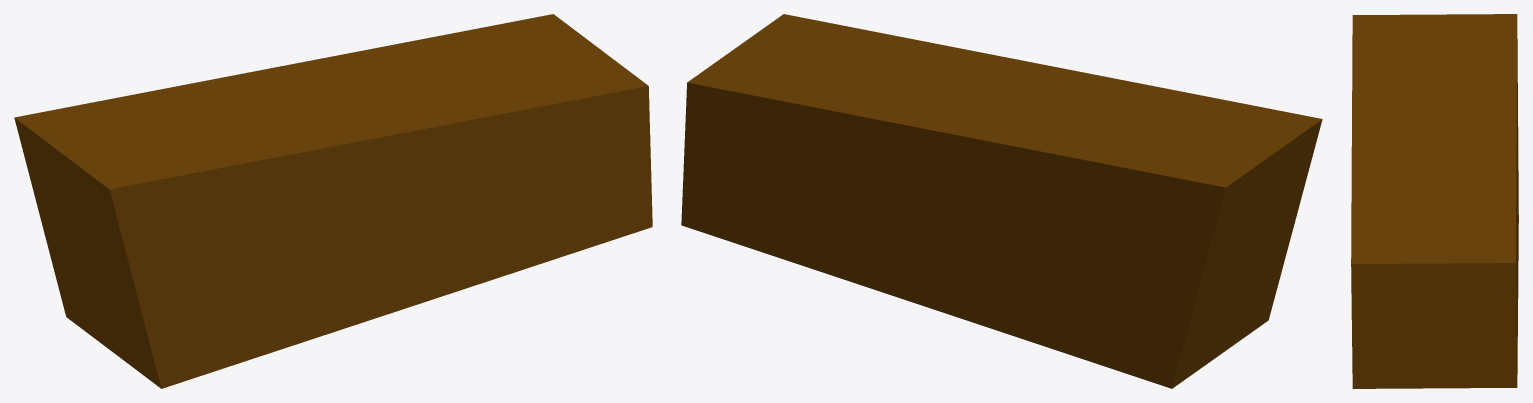
3 views of the same model, side by side, from view 1: azimuth 30°, elevation 25°; view 2: azimuth 150°, elevation 25°; view 3: azimuth 270°, elevation 25° (orthographic). The views are drawn at different scales.
Parts seen in each view (by area): view 1: 右2; view 2: 右2; view 3: 右2.
Part boxes in pixels (x1=…): 右2: x1=14, y1=14, x2=652, y2=388; 右2: x1=681, y1=14, x2=1322, y2=388; 右2: x1=1351, y1=14, x2=1518, y2=388.
Bounding box in the file's own units: 34.13 × 12.88 × 10.61.
